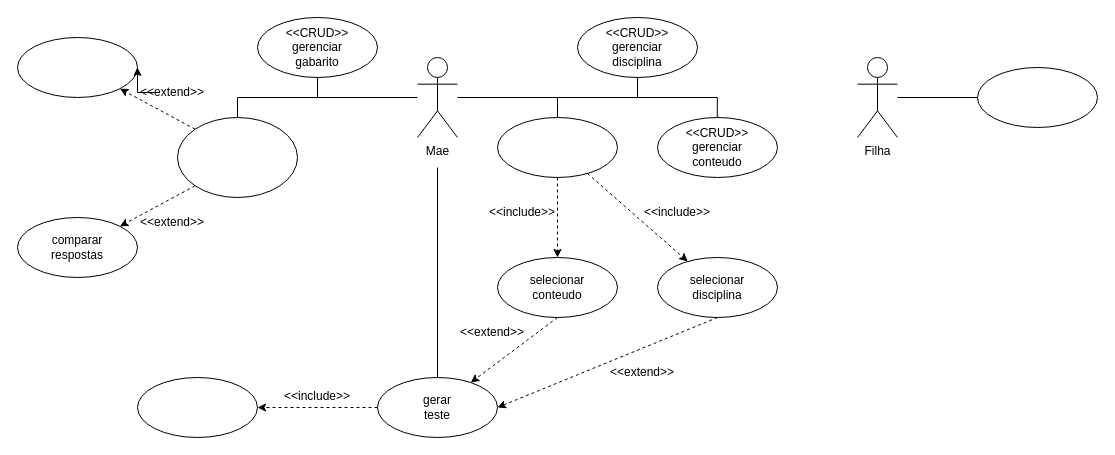
This 1115x455 diagram has some shape labels left out. The box of each missing label's shape, as (x1, y1, x2, y2) in pixels:
<<CRUD>> gerenciar questao: (496, 116, 618, 178)
informar numero questoes: (136, 376, 258, 438)
responder questionario: (976, 66, 1098, 128)
selecionar questionario: (16, 36, 138, 98)
solicitar correcao automatica: (176, 116, 298, 198)
